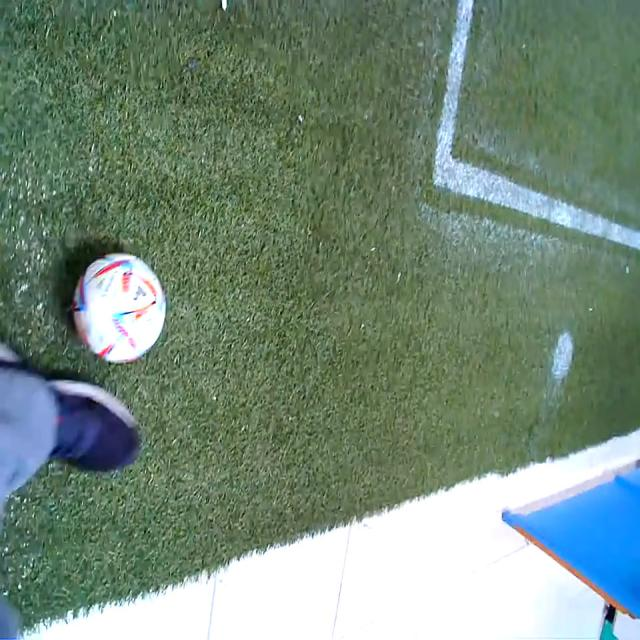ball: (73, 252, 167, 362)
